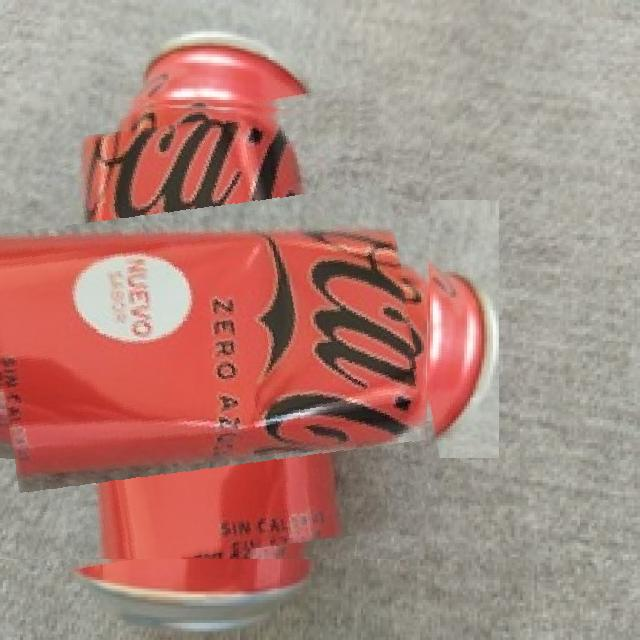recyclable: (0, 97, 431, 559)
